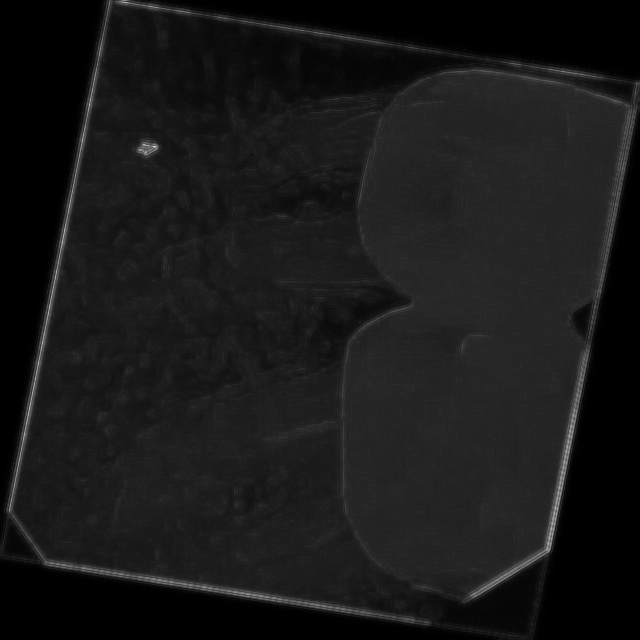Class 2- incomplete endodontic treatment: (127, 265, 587, 639), (189, 21, 636, 352)
